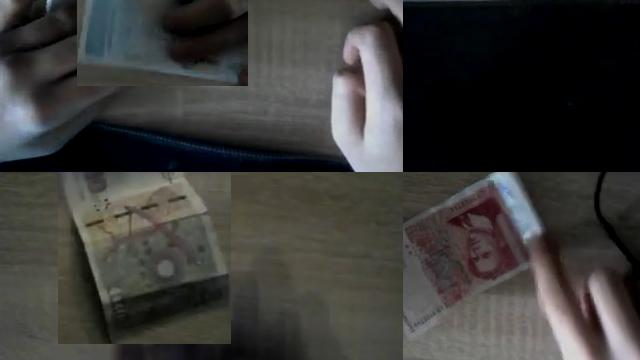10leva: (59, 172, 231, 344)
20leva: (77, 0, 248, 86)
